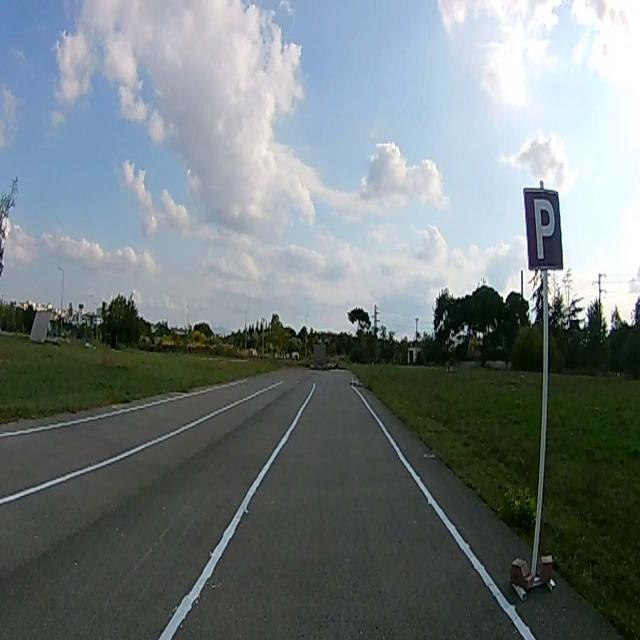park: (521, 190, 562, 266)
